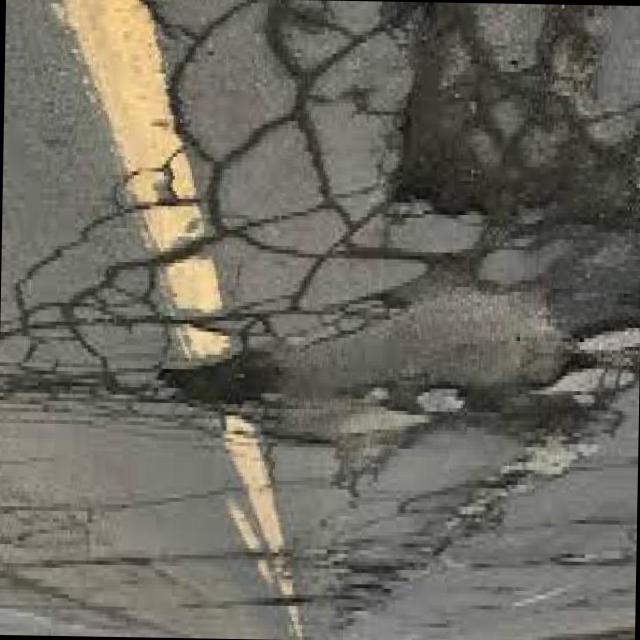pothole: (338, 13, 638, 268), (272, 280, 596, 457), (142, 332, 288, 414)
